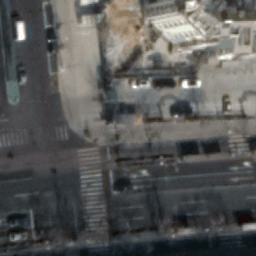car: (44, 24, 56, 54), (222, 94, 234, 117), (15, 18, 27, 41), (16, 62, 28, 85), (129, 77, 151, 89), (154, 77, 176, 89), (180, 77, 202, 89), (9, 230, 29, 241), (7, 216, 27, 227)
